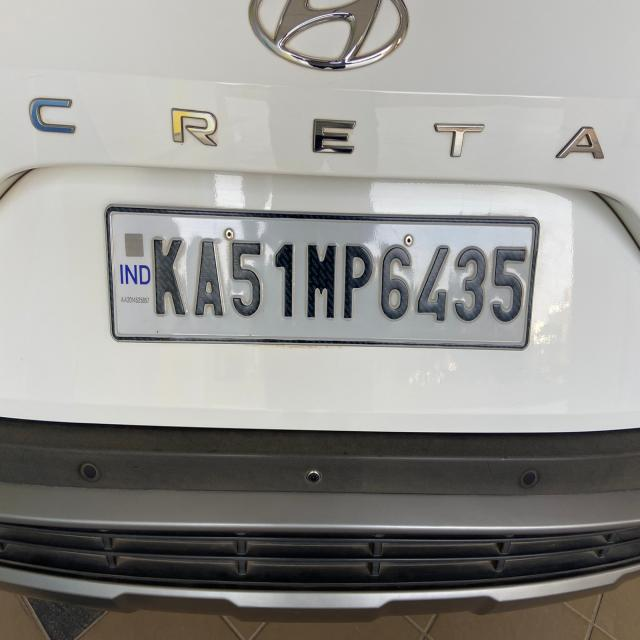1: (268, 233, 301, 324)
3: (454, 244, 489, 327)
4: (414, 239, 451, 329)
5: (491, 238, 530, 326), (228, 238, 264, 323)
6: (381, 239, 412, 332)
A: (191, 228, 226, 317)
K: (147, 227, 188, 326)
M: (304, 236, 337, 330)
P: (342, 238, 377, 330)
